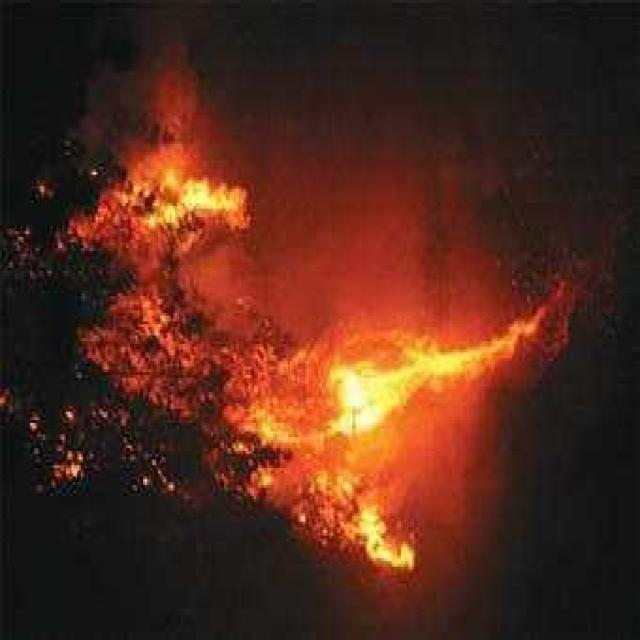fire: (318, 314, 540, 431), (103, 147, 250, 246), (349, 498, 415, 578), (239, 404, 297, 452)
